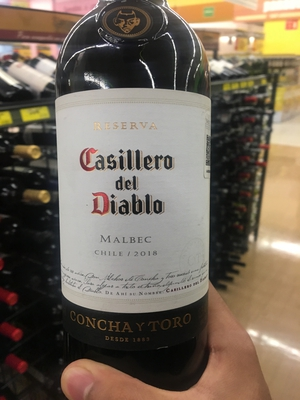casillero del diablo malbec: (46, 16, 242, 382)
